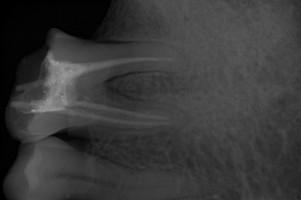Endo-Periodontal Lesion: (103, 72, 144, 102)
